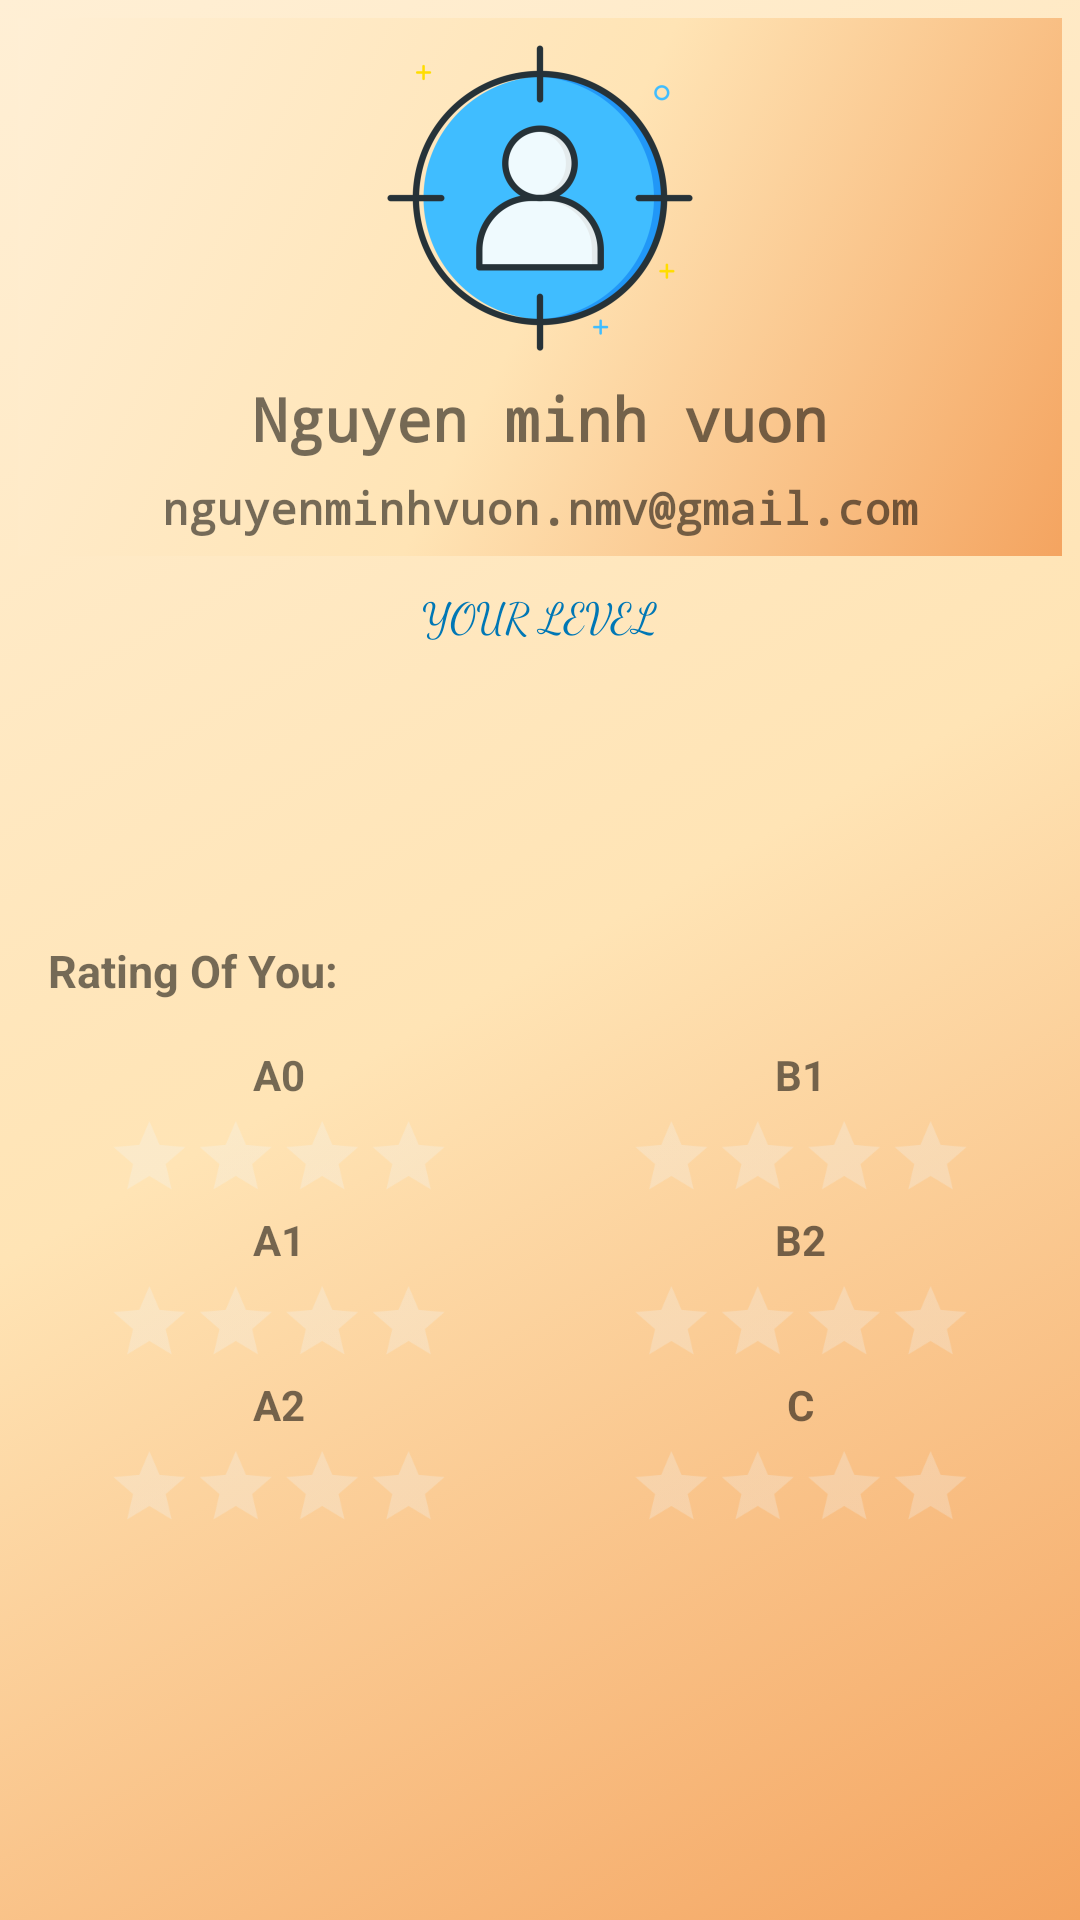

Screen size 1080x1920. Icon name, then its box in pixels as (x1, y1, x2, y2):
account: (387, 45, 697, 359)
